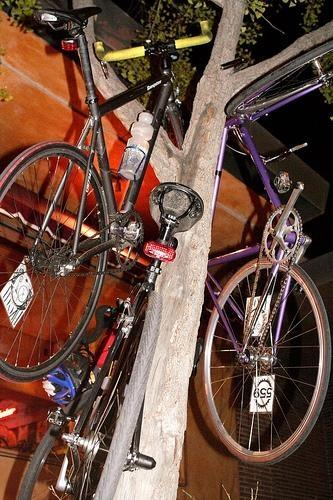bicycle: (2, 4, 210, 378), (201, 41, 333, 462), (31, 182, 199, 488)
